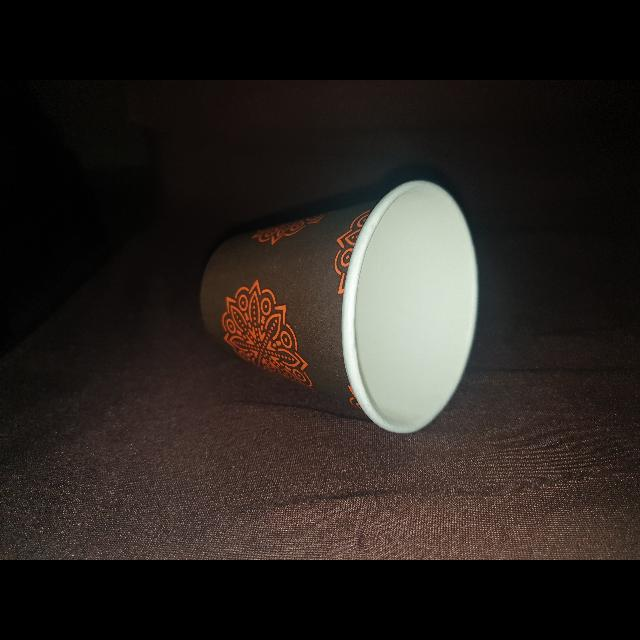trash: (187, 170, 487, 440)
